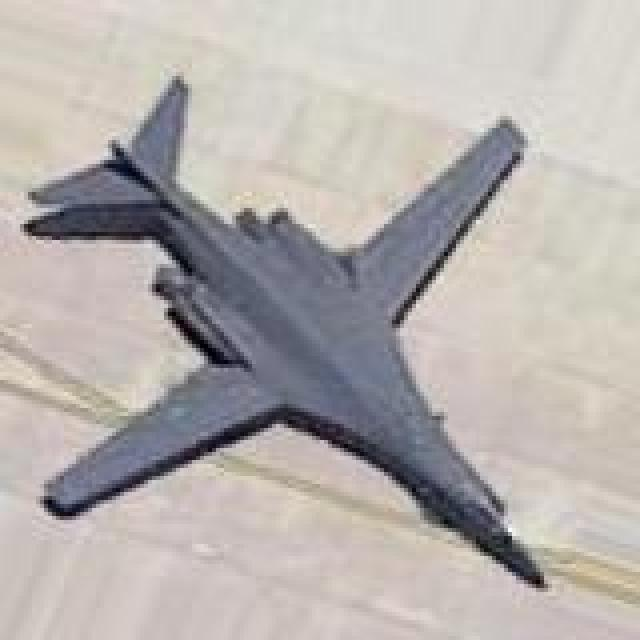B-1_TopDown: (16, 64, 552, 592)
